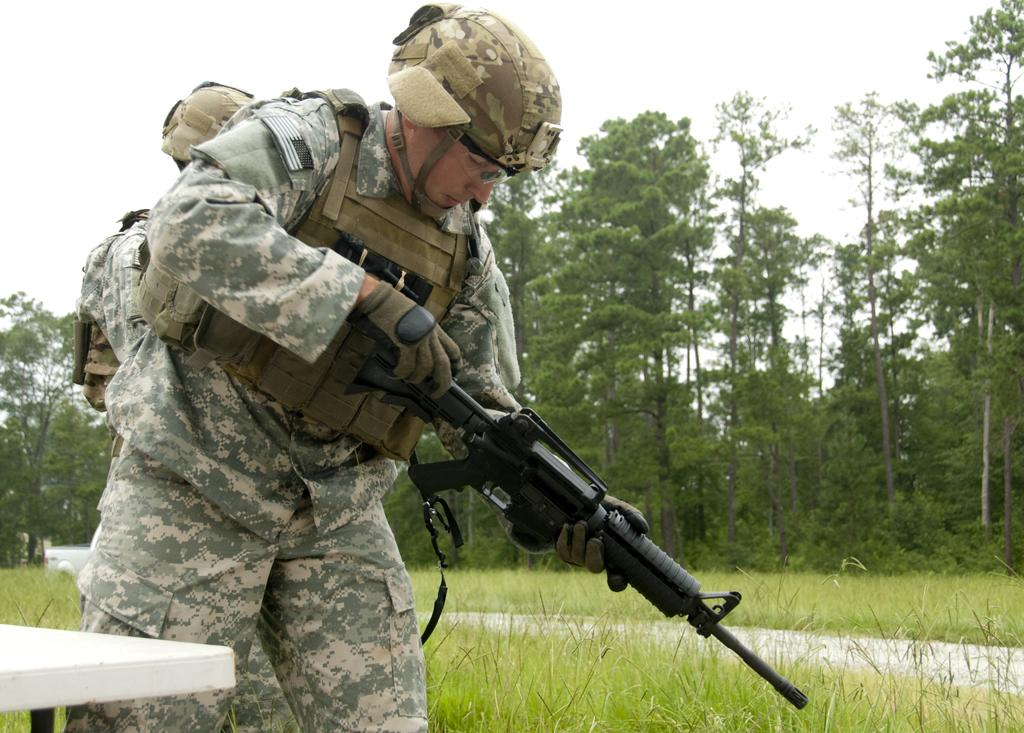Rifle: (296, 353, 808, 718)
